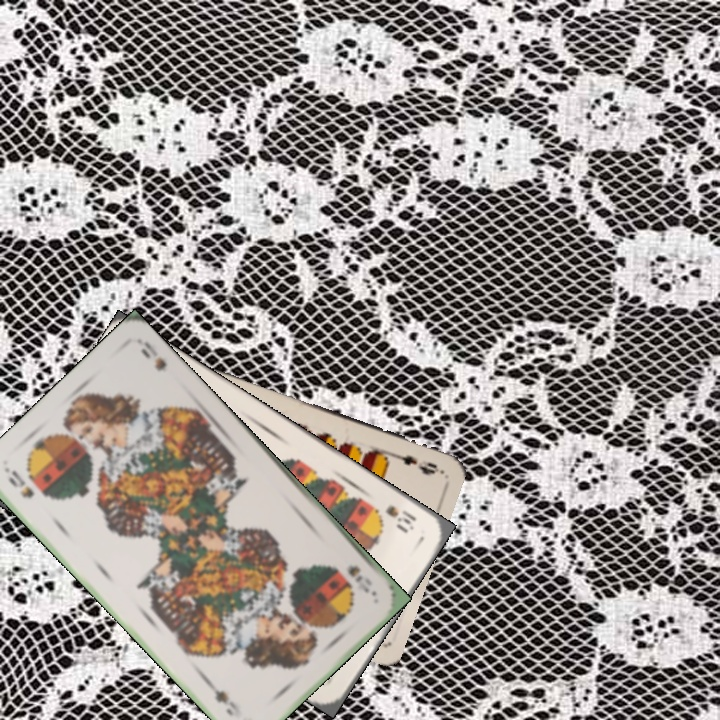E9: (383, 448, 442, 478)
S10: (381, 501, 419, 535)
SO: (4, 466, 37, 501), (343, 560, 372, 596)
